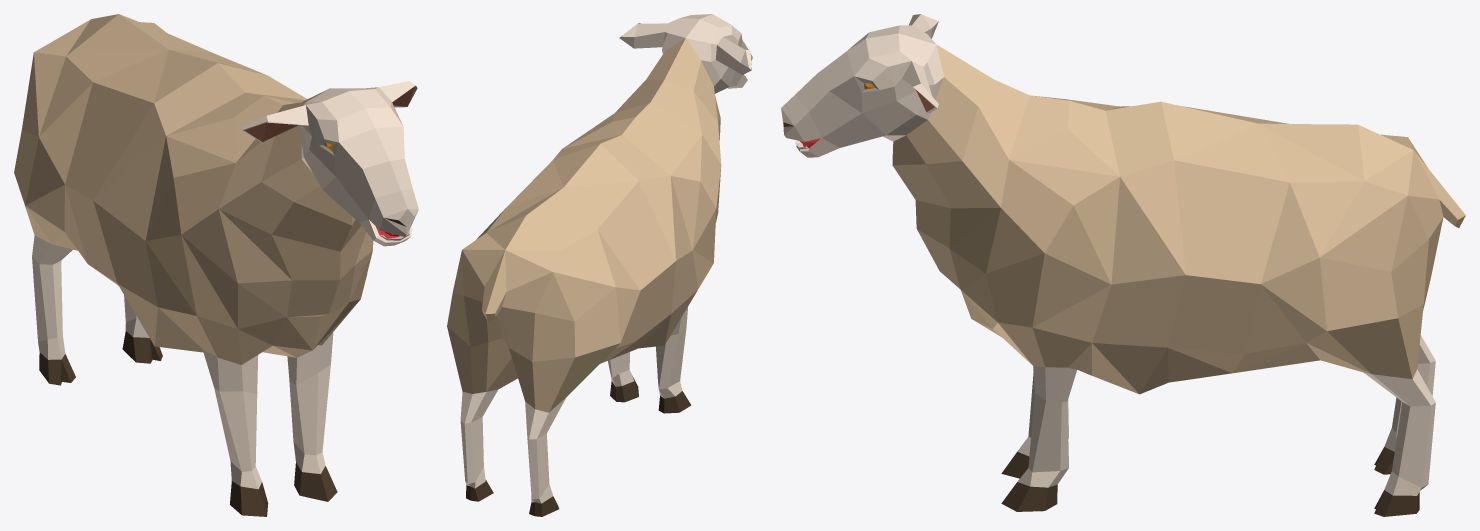
File: sheep-white.glb
The picture shows the model from 3 angles, left to right: view 1: azimuth 30°, elevation 25°; view 2: azimuth 150°, elevation 25°; view 3: azimuth 270°, elevation 25°; orthographic projection. The views are drawn at different scales.
Parts seen in each view (by area): view 1: sheep-white; view 2: sheep-white; view 3: sheep-white.
Part boxes in pixels (box(x1,y1,x2,y2)): sheep-white: box(14, 14, 418, 516); sheep-white: box(447, 14, 752, 516); sheep-white: box(781, 14, 1465, 516).
Bounding box in the file's own units: 0.4475 × 0.8723 × 1.19.
Materials: 1 (1 with a texture image).
